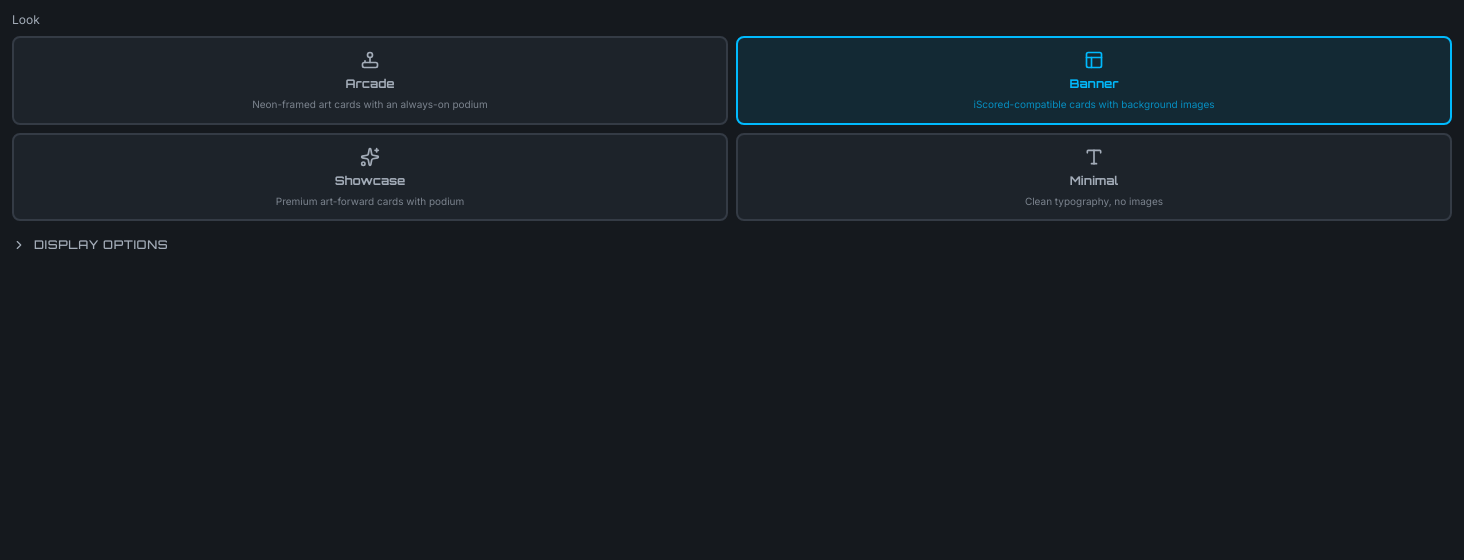
Test case: StyleThemePicker › shows the rankings-position control when rankings style is not ticker
Click the button "Display options".
click(90, 245)  # box [12,237,168,253]
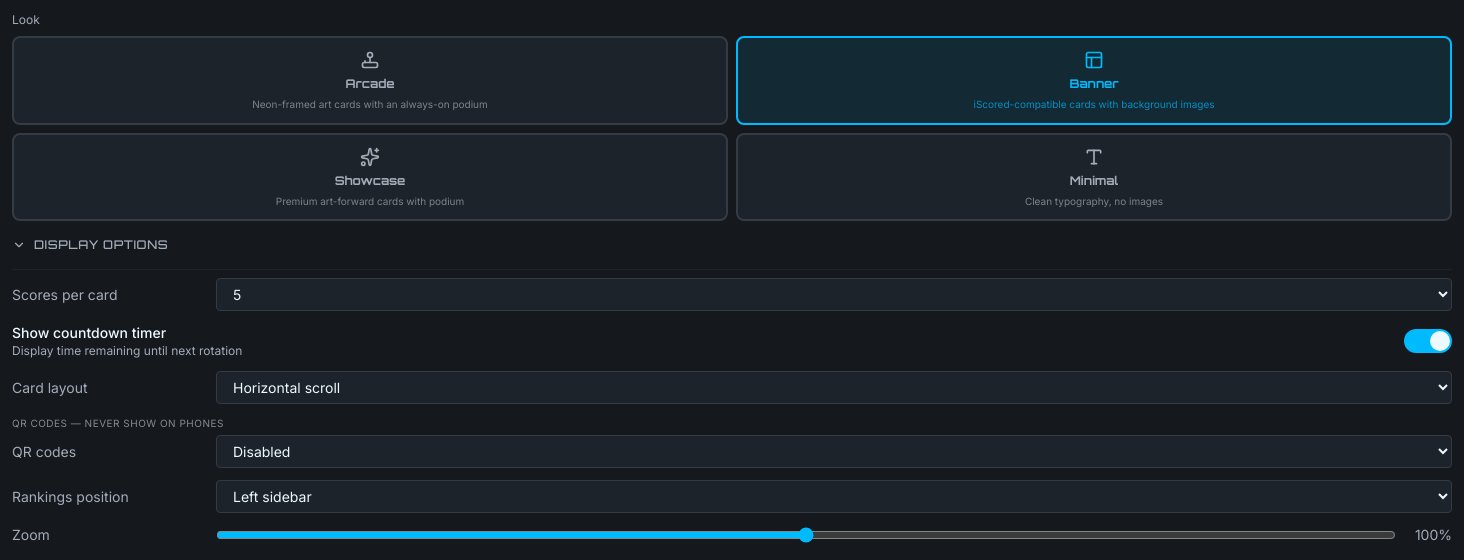
Expected: the text "Rankings position" is shown, [12,488,129,504]
